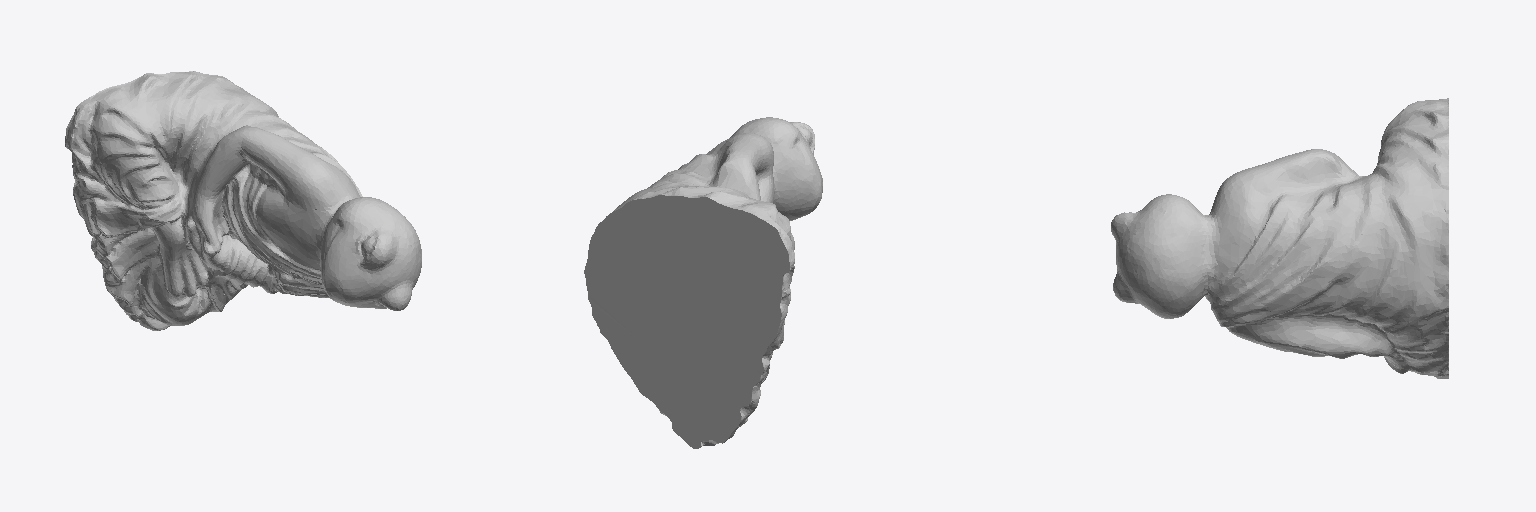
The model's file is 190698-frog_statue_QEM_50pct.obj.
3 renders of one model, left to right at view 1: azimuth 30°, elevation 25°; view 2: azimuth 150°, elevation 25°; view 3: azimuth 270°, elevation 25°, orthographic.
Bounding box in the file's own units: 0.7289 × 0.8369 × 1.